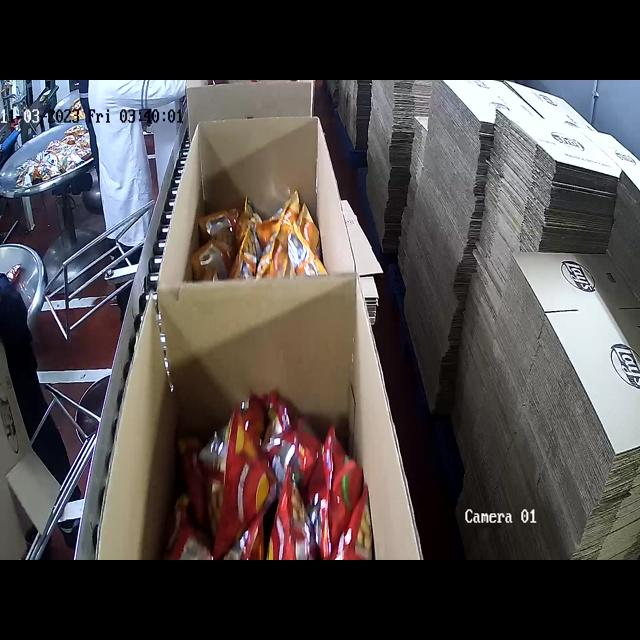cheese: (195, 191, 327, 276)
masala: (170, 395, 374, 560)
